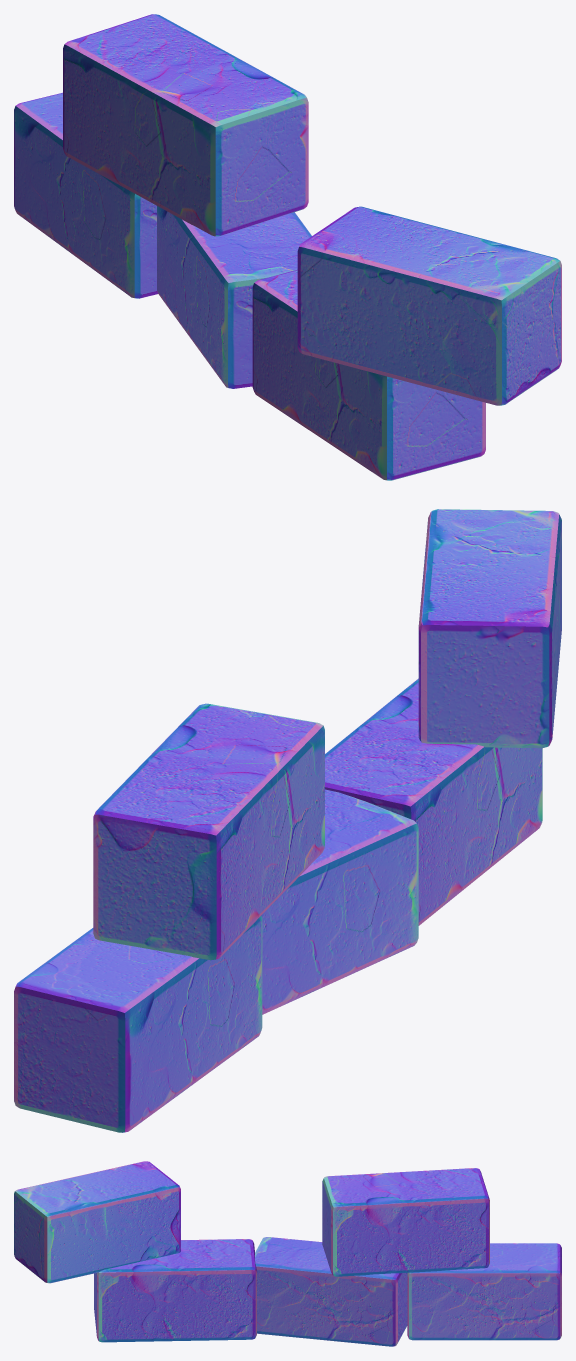
File: Dungeon_WallBricksLargeFade3.fbx
3 views of the same model, one above another, from view 1: azimuth 30°, elevation 25°; view 2: azimuth 150°, elevation 25°; view 3: azimuth 270°, elevation 25° (orthographic). The views are drawn at different scales.
Parts seen in each view (by area): view 1: MeshHP; view 2: MeshHP; view 3: MeshHP.
Part boxes in pixels (x1=…): MeshHP: x1=14, y1=14, x2=561, y2=480; MeshHP: x1=14, y1=509, x2=561, y2=1132; MeshHP: x1=14, y1=1161, x2=561, y2=1346.
Bounding box in the file's own units: 1.16 × 1.35 × 4.76.
Materials: 1 (1 with a texture image).
